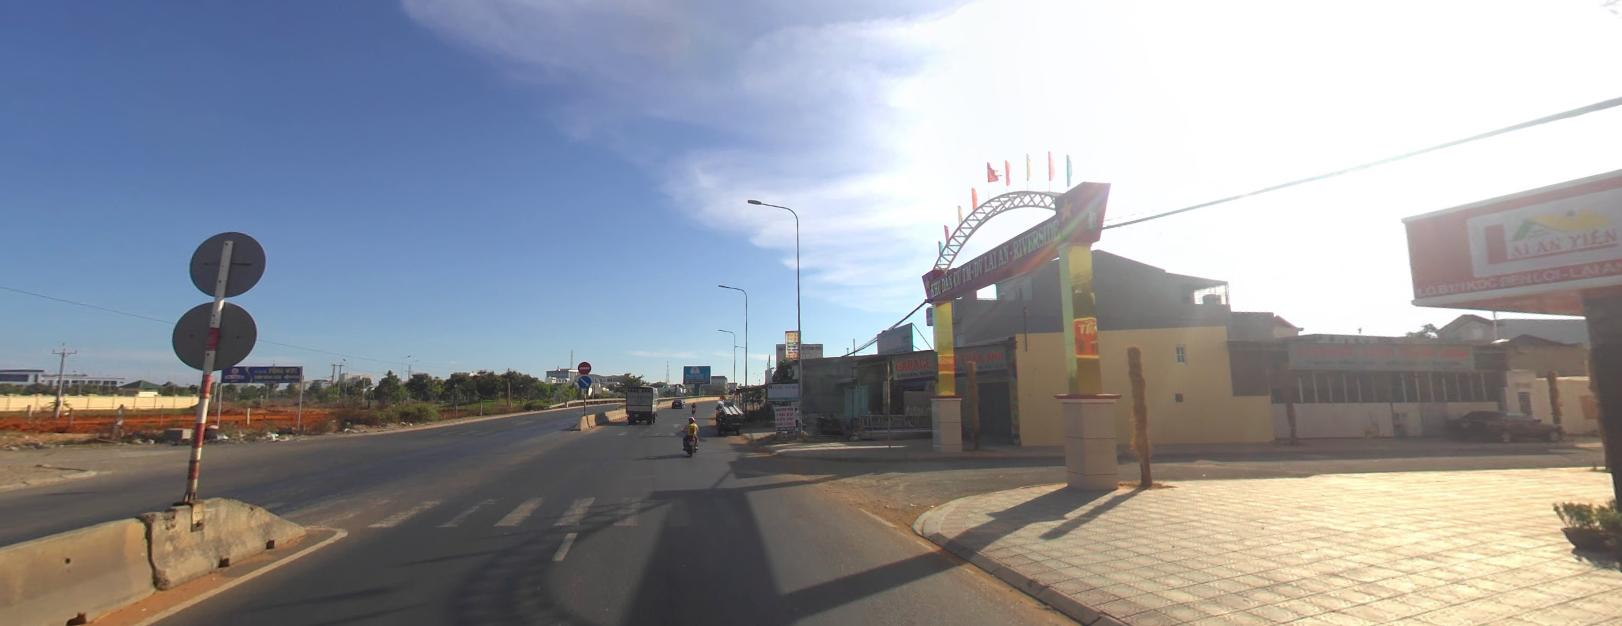Cam nguoc chieu: (577, 360, 590, 372), (578, 360, 590, 372)
Hieu lenh: (577, 374, 590, 386), (578, 374, 590, 386)
